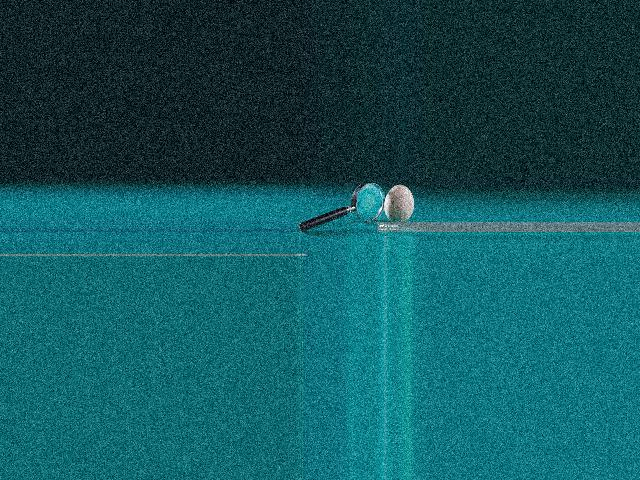egg: (384, 184, 414, 223)
